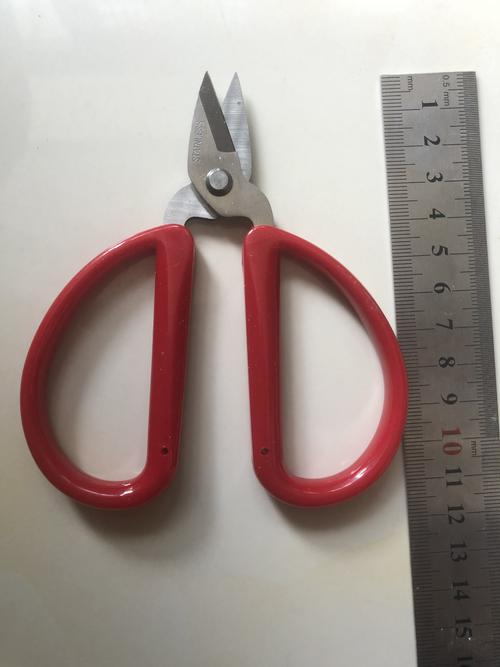scissor: (22, 69, 409, 513)
